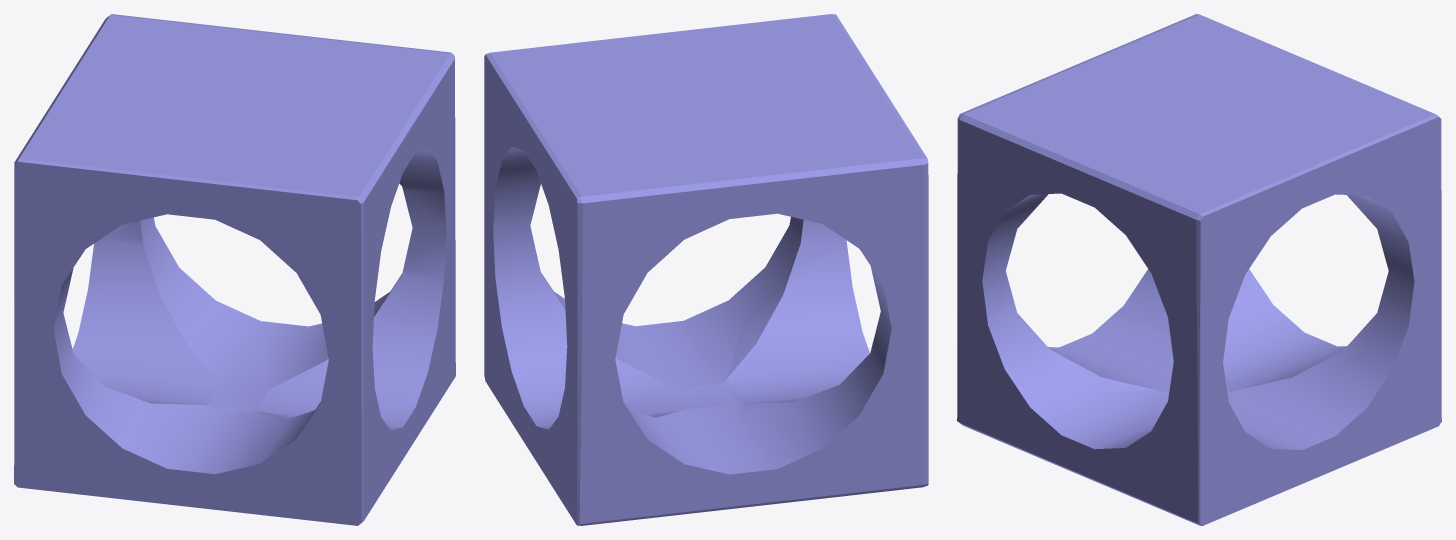
File: 005-Chopsticks_Plastic_01.FBX
3 views of the same model, side by side, from view 1: azimuth 30°, elevation 25°; view 2: azimuth 150°, elevation 25°; view 3: azimuth 270°, elevation 25° (orthographic). The views are drawn at different scales.
Visible parts, largest first — view 1: 005-Chopsticks_Plastic_01; view 2: 005-Chopsticks_Plastic_01; view 3: 005-Chopsticks_Plastic_01.
Boxes of the visible parts, x1,y1,x2,y2 form: 005-Chopsticks_Plastic_01: (14,14,455,525); 005-Chopsticks_Plastic_01: (484,14,928,525); 005-Chopsticks_Plastic_01: (957,14,1441,525).
Size of the model in its own units: 40.21 by 28.51 by 40.21.
